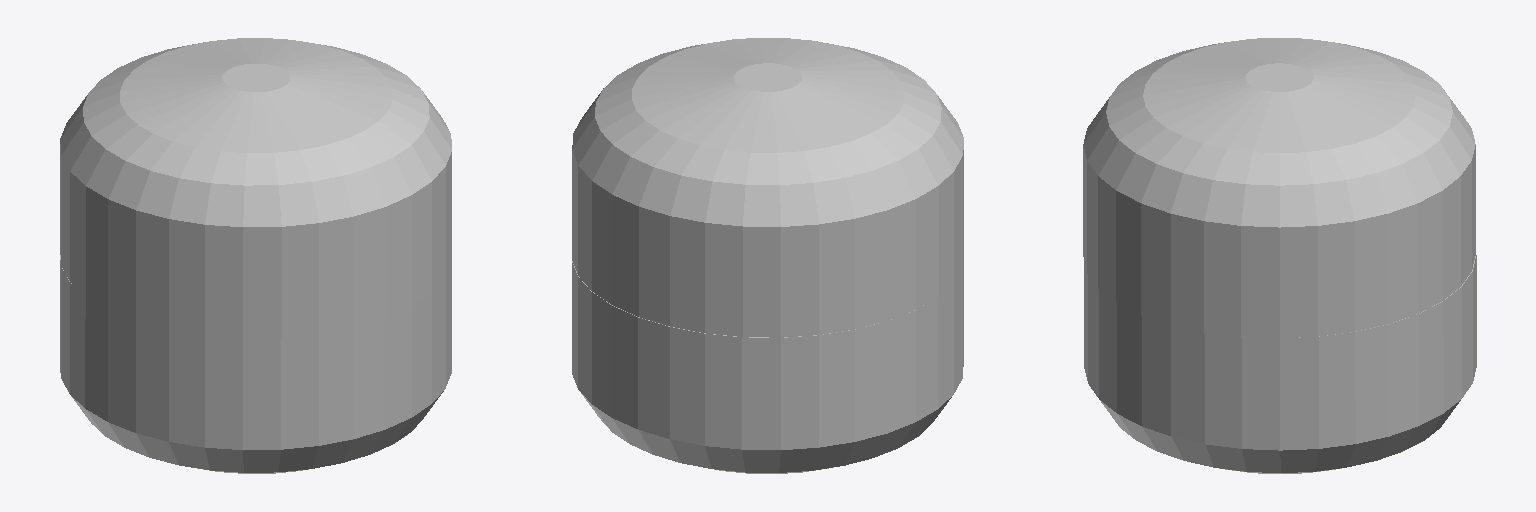
The model's file is collisionCapsule.obj.
3 renders of one model, left to right at view 1: azimuth 30°, elevation 25°; view 2: azimuth 150°, elevation 25°; view 3: azimuth 270°, elevation 25°, orthographic.
Parts seen in each view (by area): view 1: col.capsuleCollision.000_Cylinder; view 2: col.capsuleCollision.000_Cylinder; view 3: col.capsuleCollision.000_Cylinder.
Boxes of the visible parts, box(x1,y1,x2,y2) form: col.capsuleCollision.000_Cylinder: box(60, 38, 451, 473); col.capsuleCollision.000_Cylinder: box(572, 38, 963, 473); col.capsuleCollision.000_Cylinder: box(1083, 38, 1476, 473).
Bounding box in the file's own units: 2 × 2 × 2.